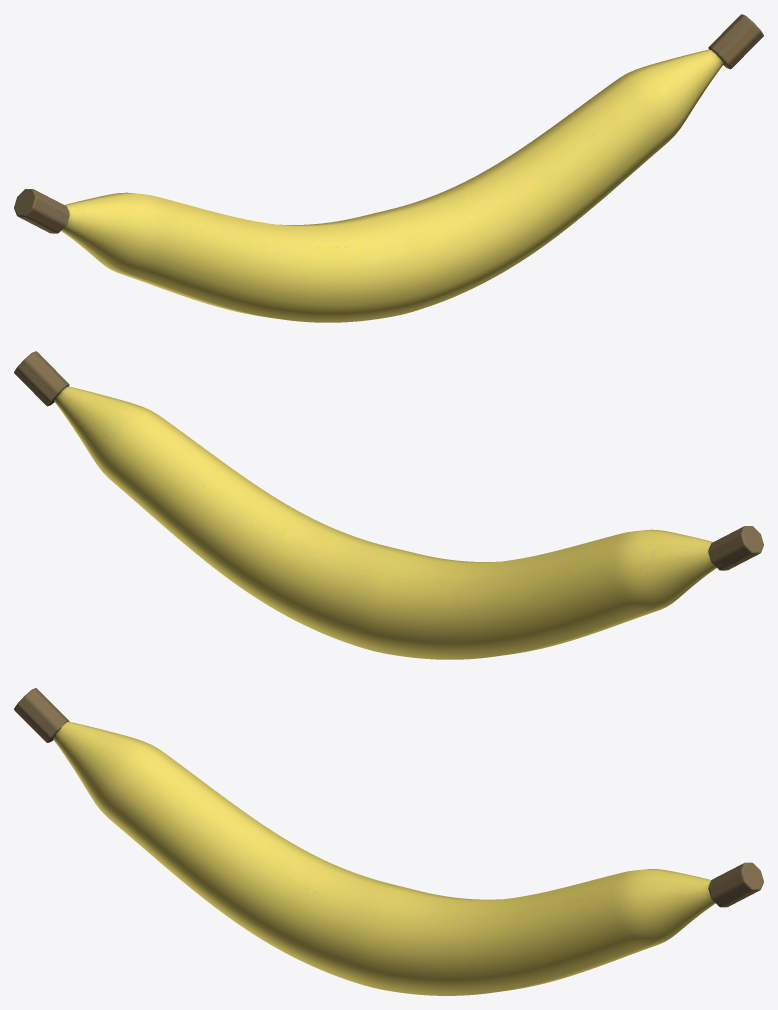
File: banana.glb
3 views of the same model, one above another, from view 1: azimuth 30°, elevation 25°; view 2: azimuth 150°, elevation 25°; view 3: azimuth 330°, elevation 25° (orthographic).
Parts seen in each view (by area): view 1: ban; view 2: ban; view 3: ban.
Boxes of the visible parts, left/top/right/bottom form: ban: left=14, top=14, right=763, bottom=322; ban: left=14, top=351, right=763, bottom=659; ban: left=14, top=688, right=763, bottom=995.
Bounding box in the file's own units: 0.2099 × 0.0564 × 0.0248.
1 material, 1 textured.
